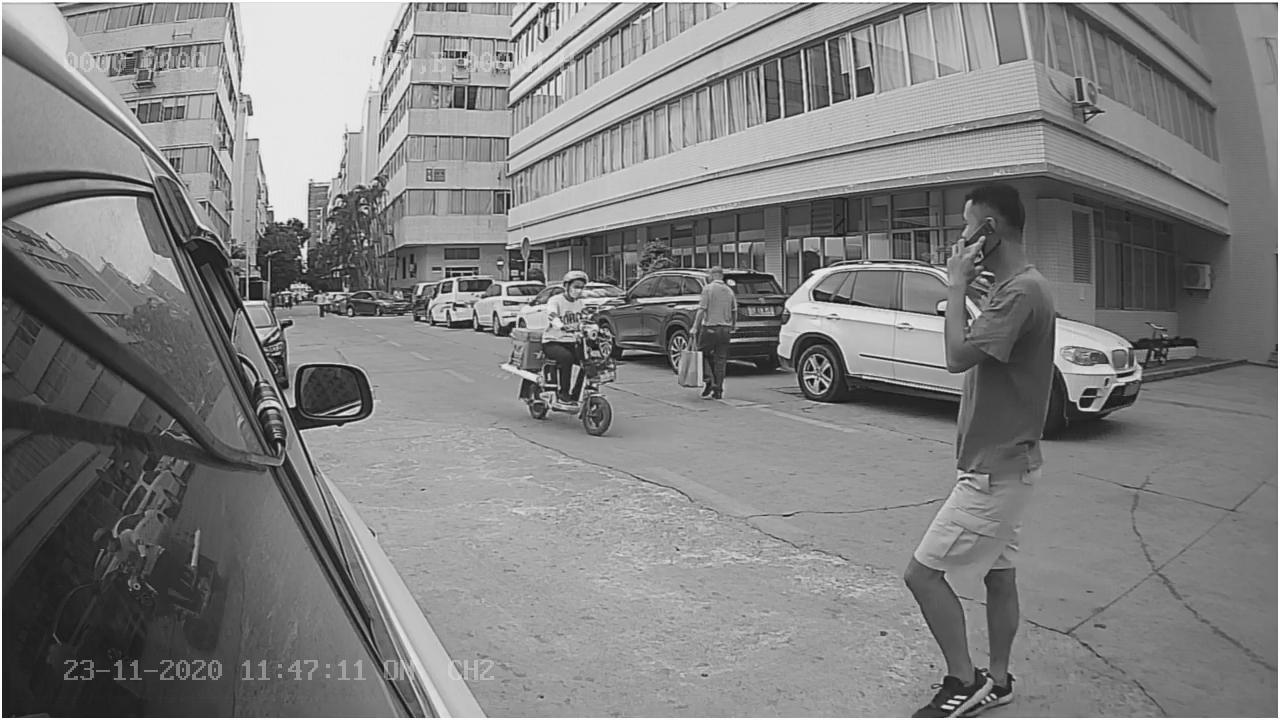person: (535, 256, 605, 324)
